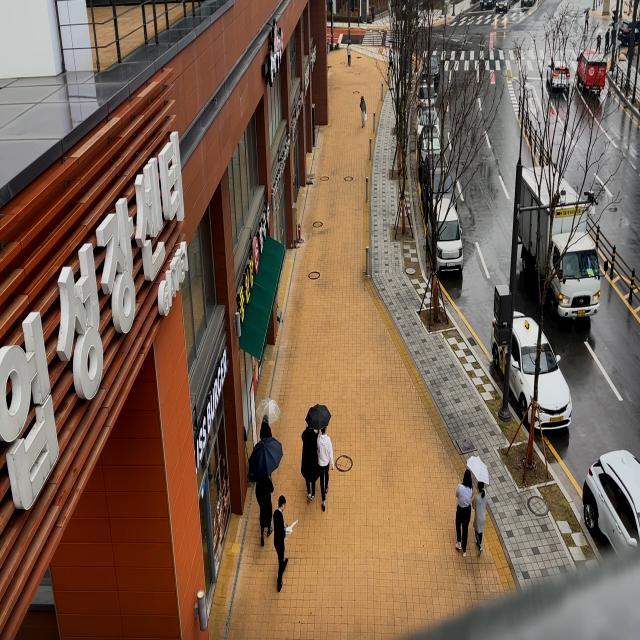Car: (488, 296, 576, 448), (569, 422, 640, 573), (422, 194, 468, 276), (540, 46, 574, 103), (426, 162, 464, 213), (415, 124, 444, 162), (614, 6, 640, 47), (418, 50, 446, 84), (417, 106, 448, 135), (417, 78, 438, 116)
Truck: (513, 144, 606, 330), (577, 48, 609, 102)
